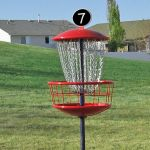basket: (37, 1, 118, 122)
